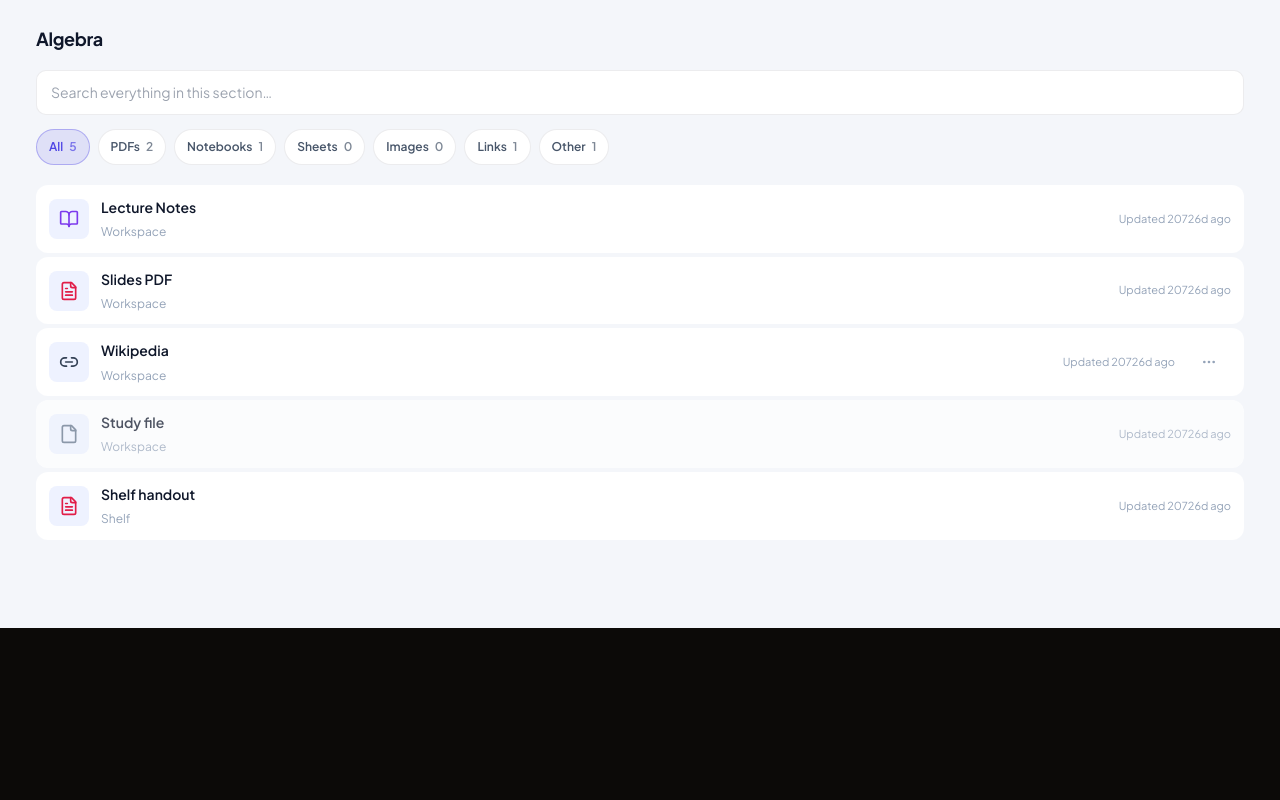
MissionControlEverything › filters by category chip
This screenshot has width=1280, height=800.
Click the button with test id "mc-filter-pdf" at (132, 147), box top-left (98, 129), bottom-right (166, 165)
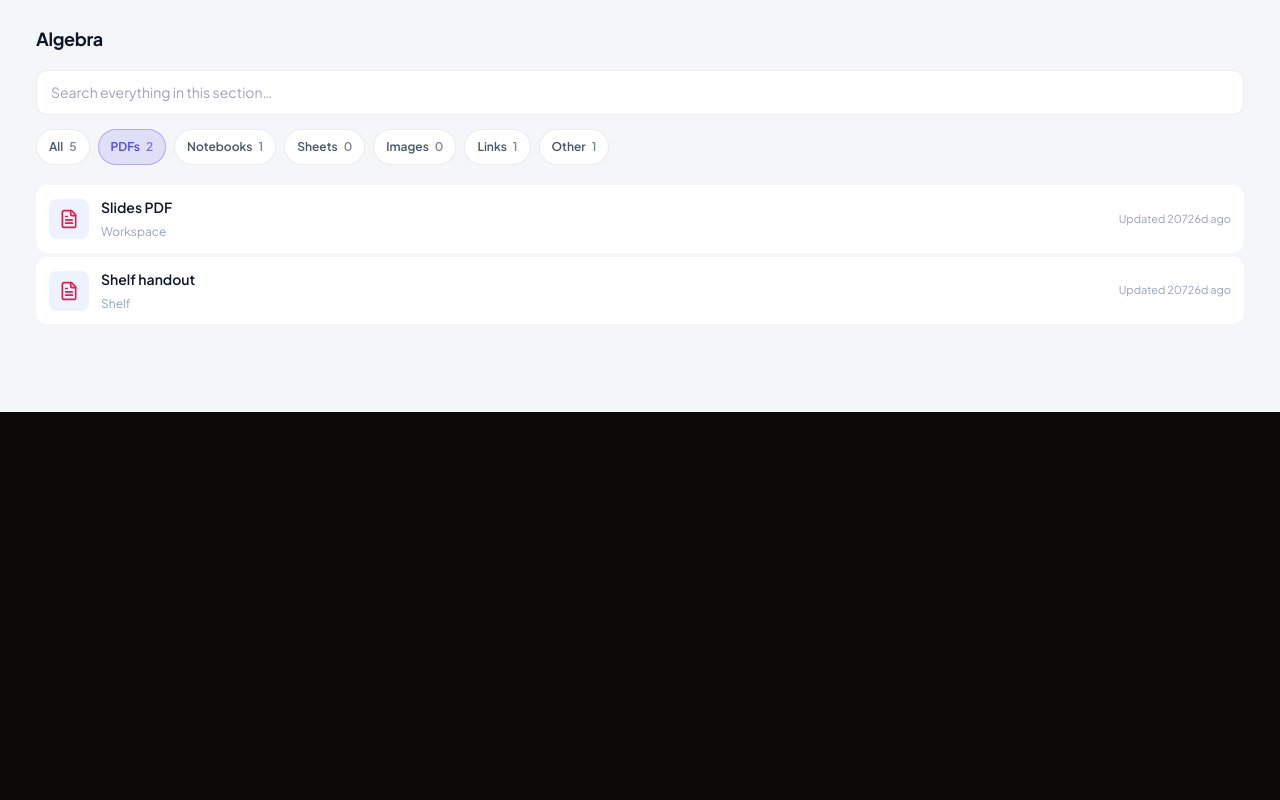
Check: the text "Slides PDF" is shown, box top-left (101, 198), bottom-right (172, 216)
Check: the text "Lecture Notes" is gone
Check: the text "Wikipedia" is gone
